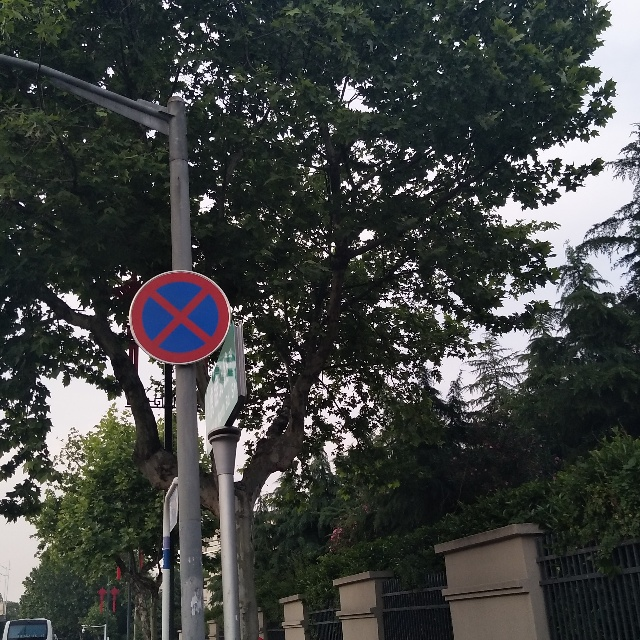stop: (124, 271, 237, 364)
